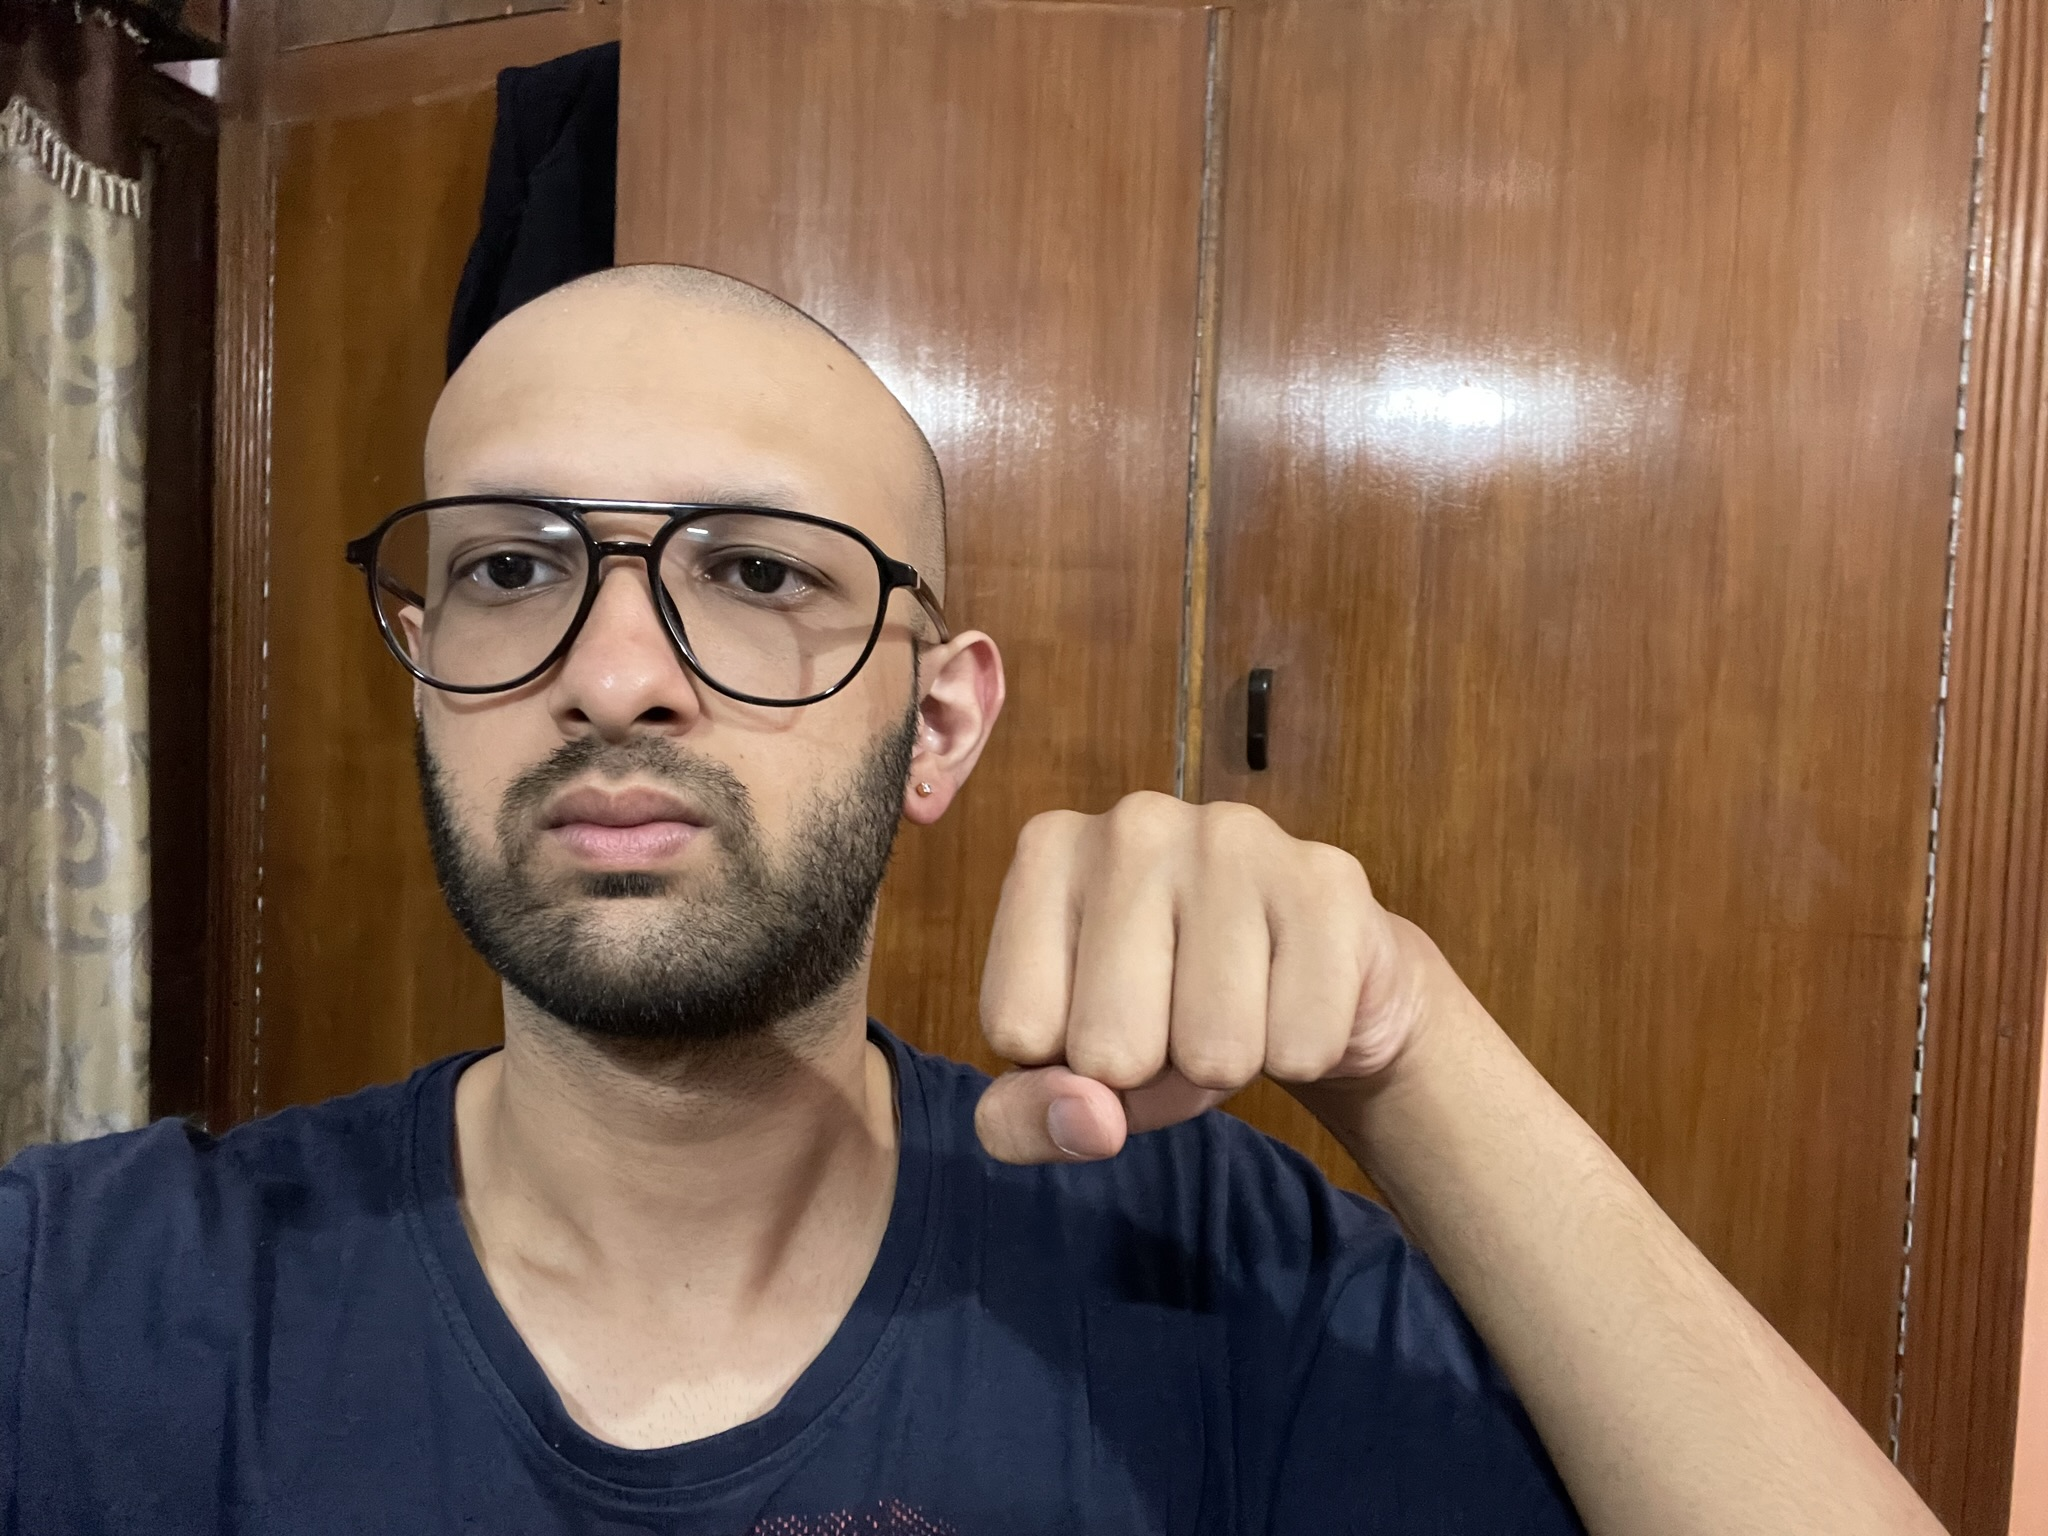Yes: (959, 783, 1417, 1196)
